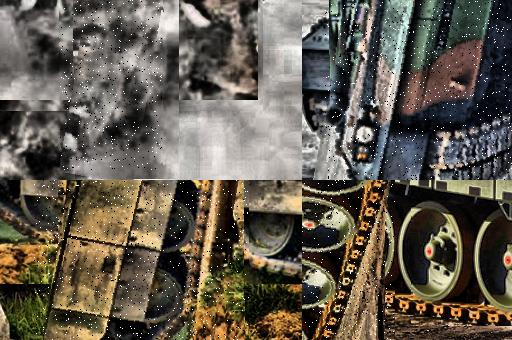tanks: (327, 1, 512, 181), (44, 181, 215, 340), (61, 1, 163, 171), (303, 181, 386, 340)
